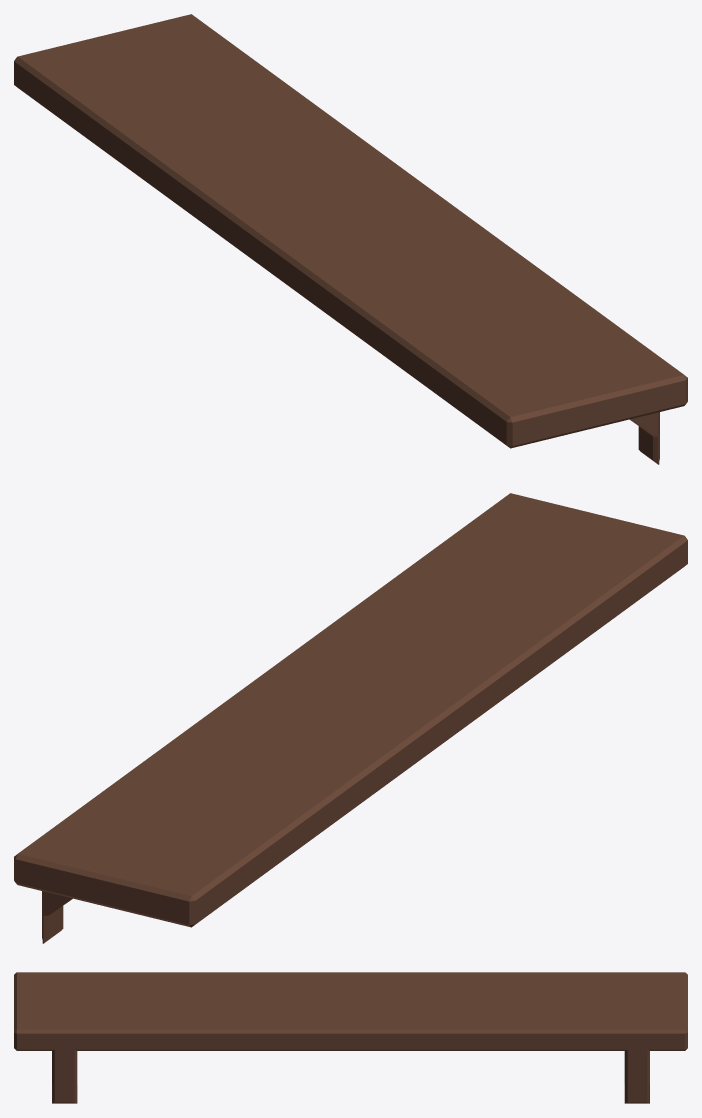
Rendered from Shelf (1).fbx.
3 views of the same model, one above another, from view 1: azimuth 30°, elevation 25°; view 2: azimuth 150°, elevation 25°; view 3: azimuth 270°, elevation 25° (orthographic). The views are drawn at different scales.
Visible parts, largest first — view 1: Cube; view 2: Cube; view 3: Cube.
Part boxes in pixels (box(x1,y1,x2,y2)): Cube: box(14, 14, 687, 464); Cube: box(14, 493, 687, 943); Cube: box(14, 972, 687, 1103).
Size of the model in its own units: 200 by 115 by 950.
